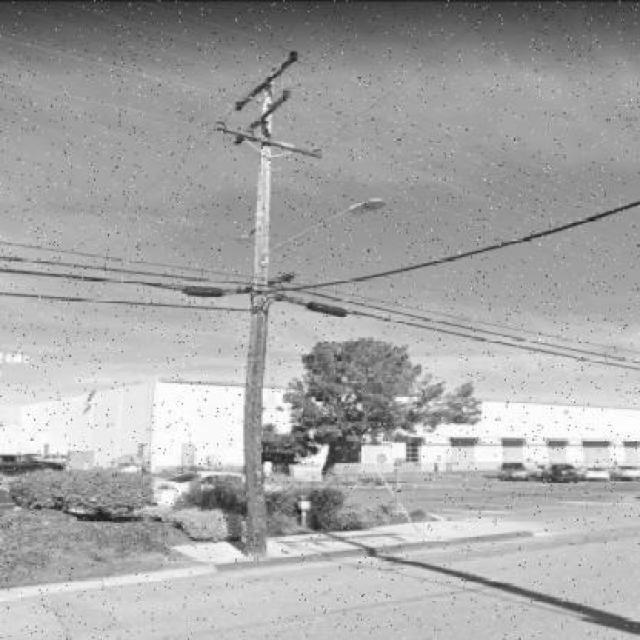pole: (128, 31, 412, 598)
